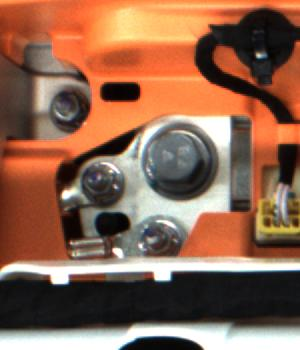nut_b: (138, 127, 213, 201)
screw_s: (84, 163, 128, 199), (135, 220, 178, 256), (47, 91, 84, 132)
